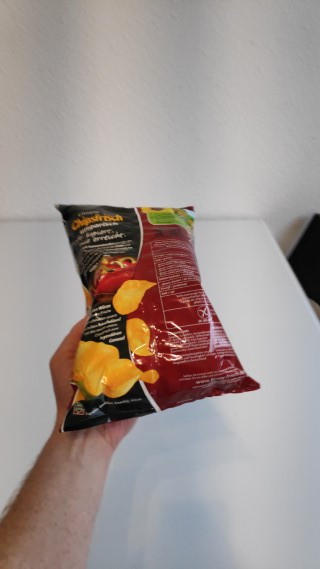chipsfrisch: (55, 203, 262, 432)
